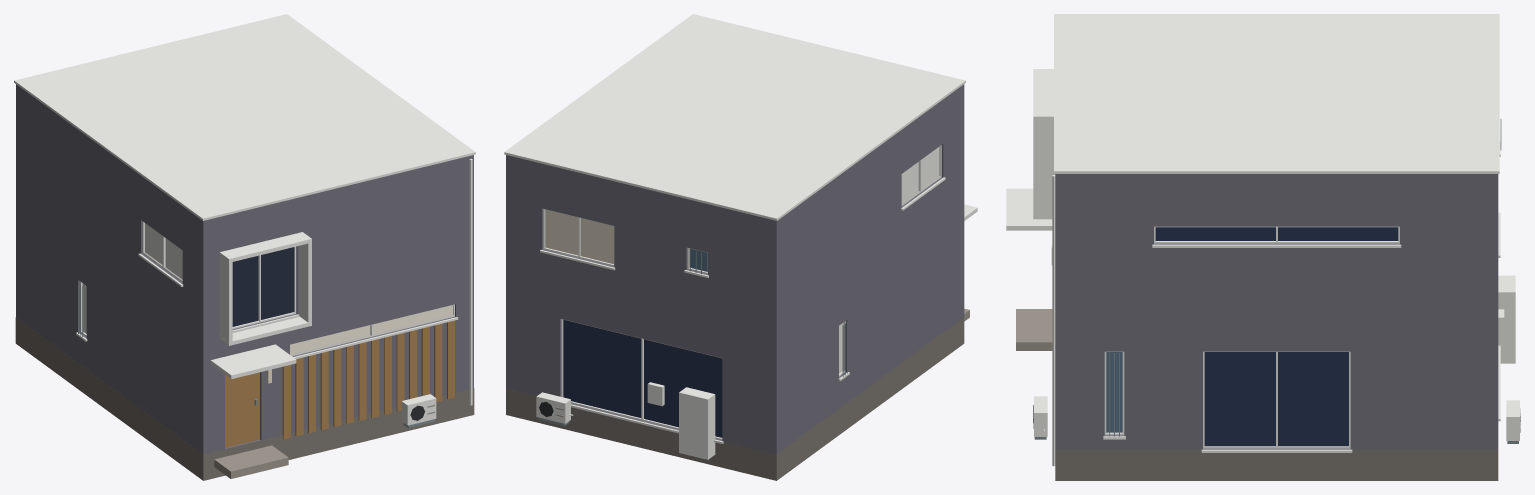
File: tb_house_modern_2f_01_b.fbx
The picture shows the model from 3 angles, left to right: view 1: azimuth 30°, elevation 25°; view 2: azimuth 150°, elevation 25°; view 3: azimuth 270°, elevation 25°; orthographic projection. The views are drawn at different scales.
Parts seen in each view (by area): view 1: tb_house_modern_2f_01_b; view 2: tb_house_modern_2f_01_b; view 3: tb_house_modern_2f_01_b.
Boxes of the visible parts, <box> form: tb_house_modern_2f_01_b: <box>14,14,475,480</box>; tb_house_modern_2f_01_b: <box>504,14,977,480</box>; tb_house_modern_2f_01_b: <box>1006,14,1520,480</box>.
Size of what is drawn, in the model's own units: 7.62 by 6.96 by 10.45.
3 materials, 3 textured.
